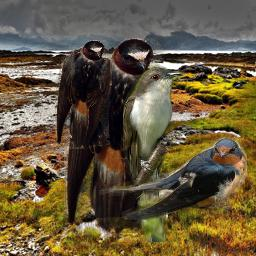Cuckoo: (123, 61, 184, 242)
Swallow: (64, 38, 168, 236), (99, 137, 247, 220), (55, 40, 112, 150)
